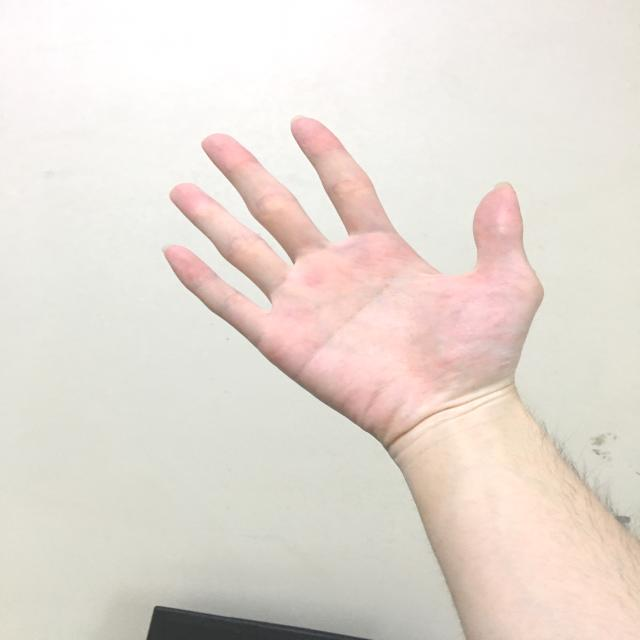no_glove: (148, 102, 559, 449)
